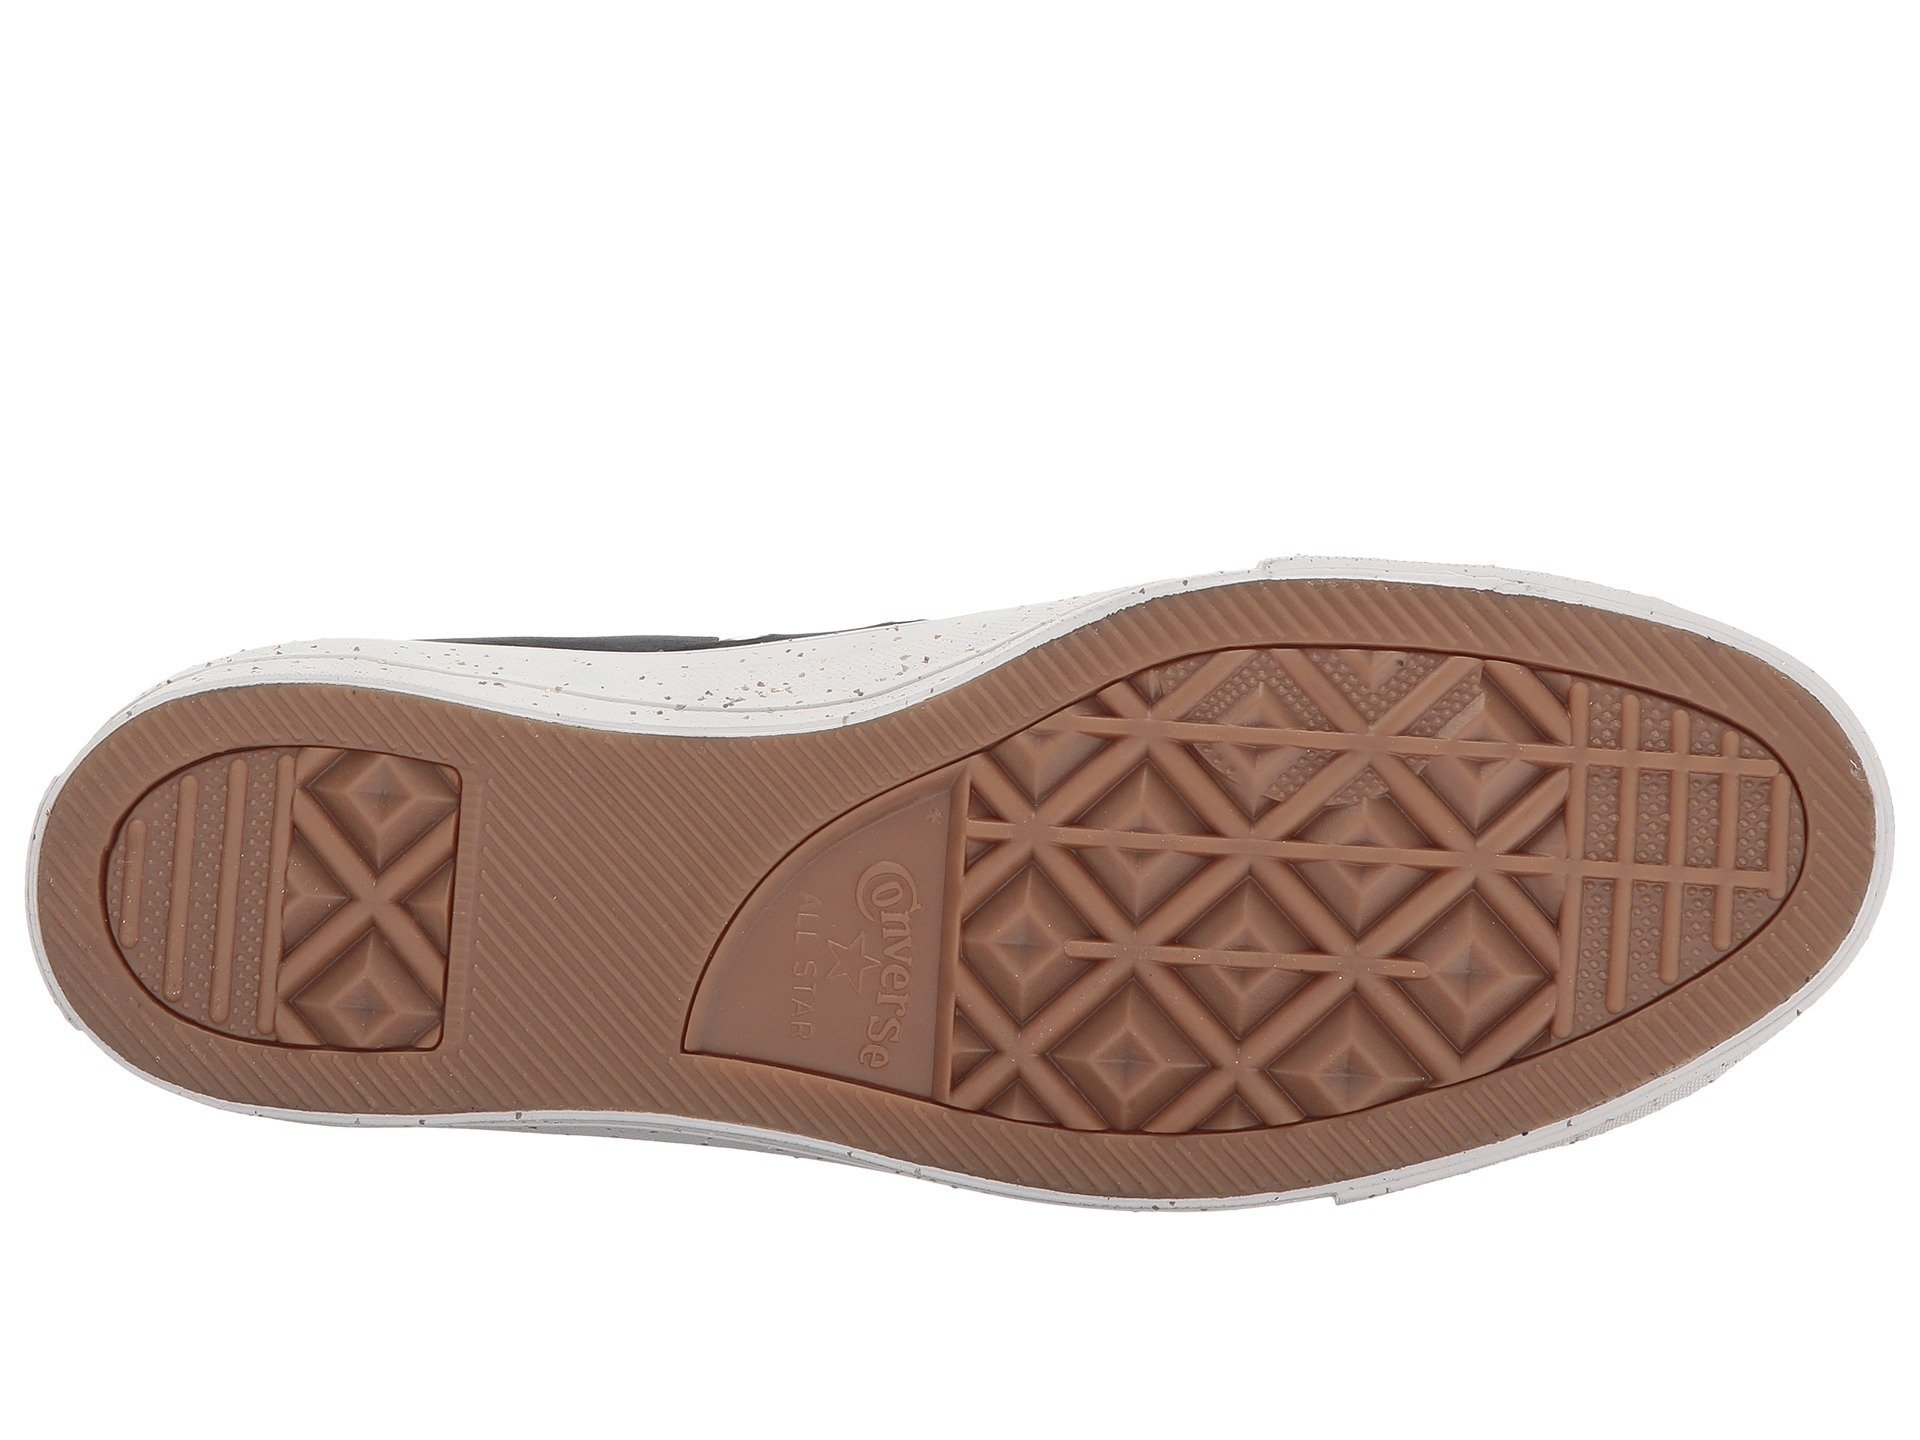circle: (1089, 681, 1542, 1048), (110, 743, 461, 1047), (1595, 687, 1763, 976)
line: (1089, 681, 1542, 1048), (110, 743, 461, 1047), (738, 793, 937, 1106), (487, 759, 638, 1091), (1595, 687, 1763, 976)
quad: (1089, 681, 1542, 1048), (110, 743, 461, 1047), (1595, 687, 1763, 976)
star: (738, 793, 937, 1106)
text: (738, 793, 937, 1106)
triangle: (1089, 681, 1542, 1048), (110, 743, 461, 1047)
